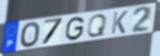2: (131, 5, 153, 35)
7: (42, 17, 65, 46)
G: (64, 16, 86, 42)
K: (110, 10, 129, 36)
O: (20, 21, 42, 50)
Q: (86, 14, 109, 38)
